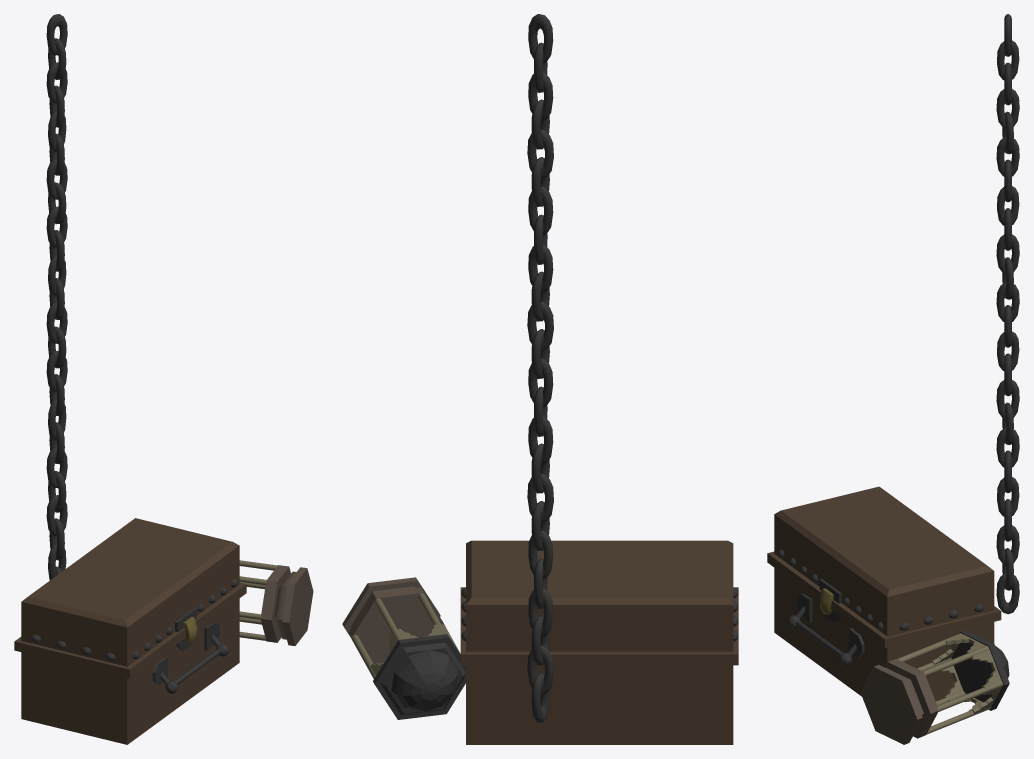
File: decors_2.fbx
The picture shows the model from 3 angles, left to right: view 1: azimuth 30°, elevation 25°; view 2: azimuth 150°, elevation 25°; view 3: azimuth 270°, elevation 25°; orthographic projection. The views are drawn at different scales.
Parts seen in each view (by area): view 1: pSphere21; view 2: pSphere21; view 3: pSphere21.
Boxes of the visible parts, x1,y1,x2,y2 form: pSphere21: (14, 14, 313, 744); pSphere21: (342, 14, 738, 744); pSphere21: (767, 14, 1019, 744).
Size of the model in its own units: 11.87 by 22.8 by 8.15.
